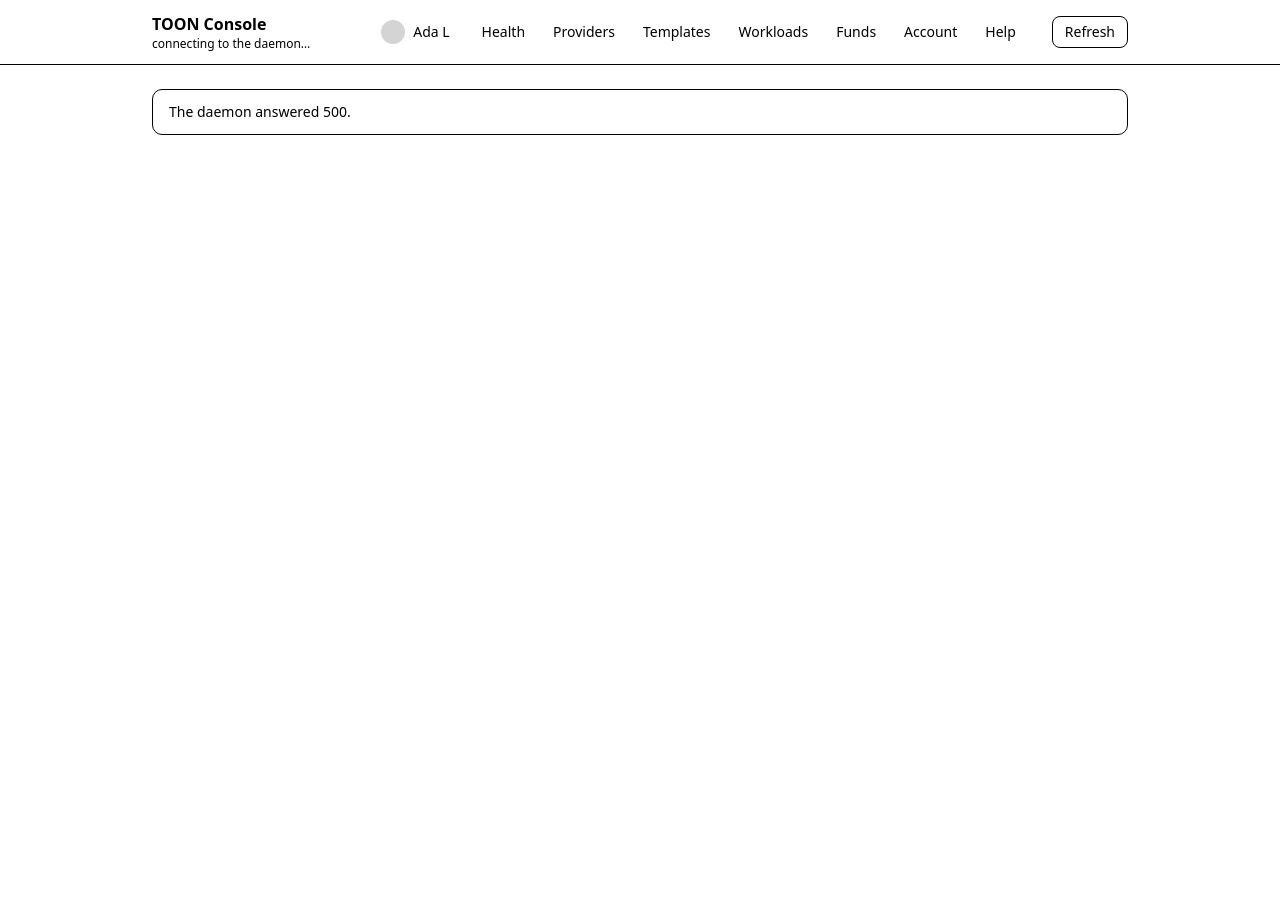
Test case: signing in with a Nostr signer › signs out back to the sign-in screen, with the signer still listed
Click the button "Account" at coordinates (931, 32), box [892,16,969,48]
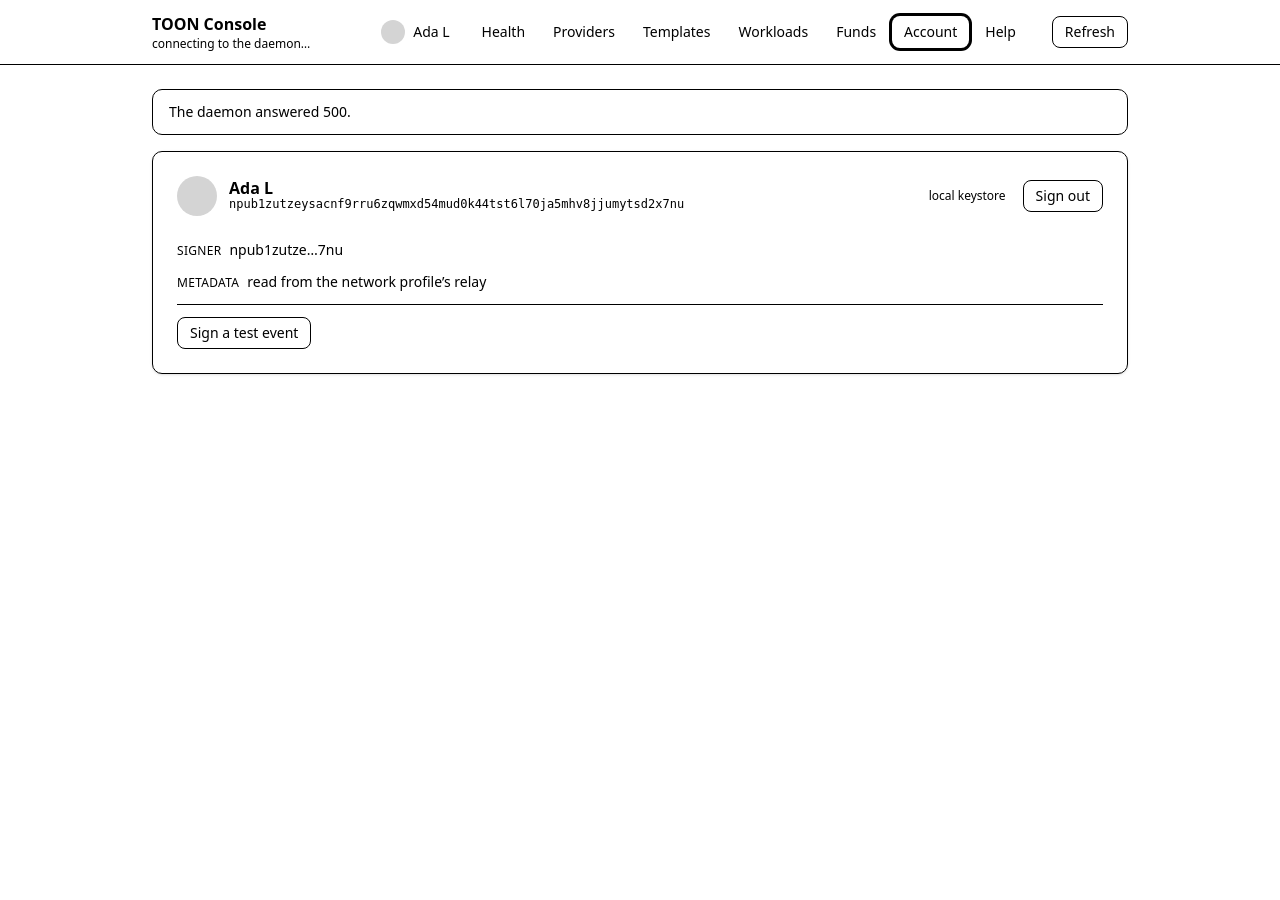
Click the button "Sign out" at coordinates (1063, 196), box [1023,180,1103,212]
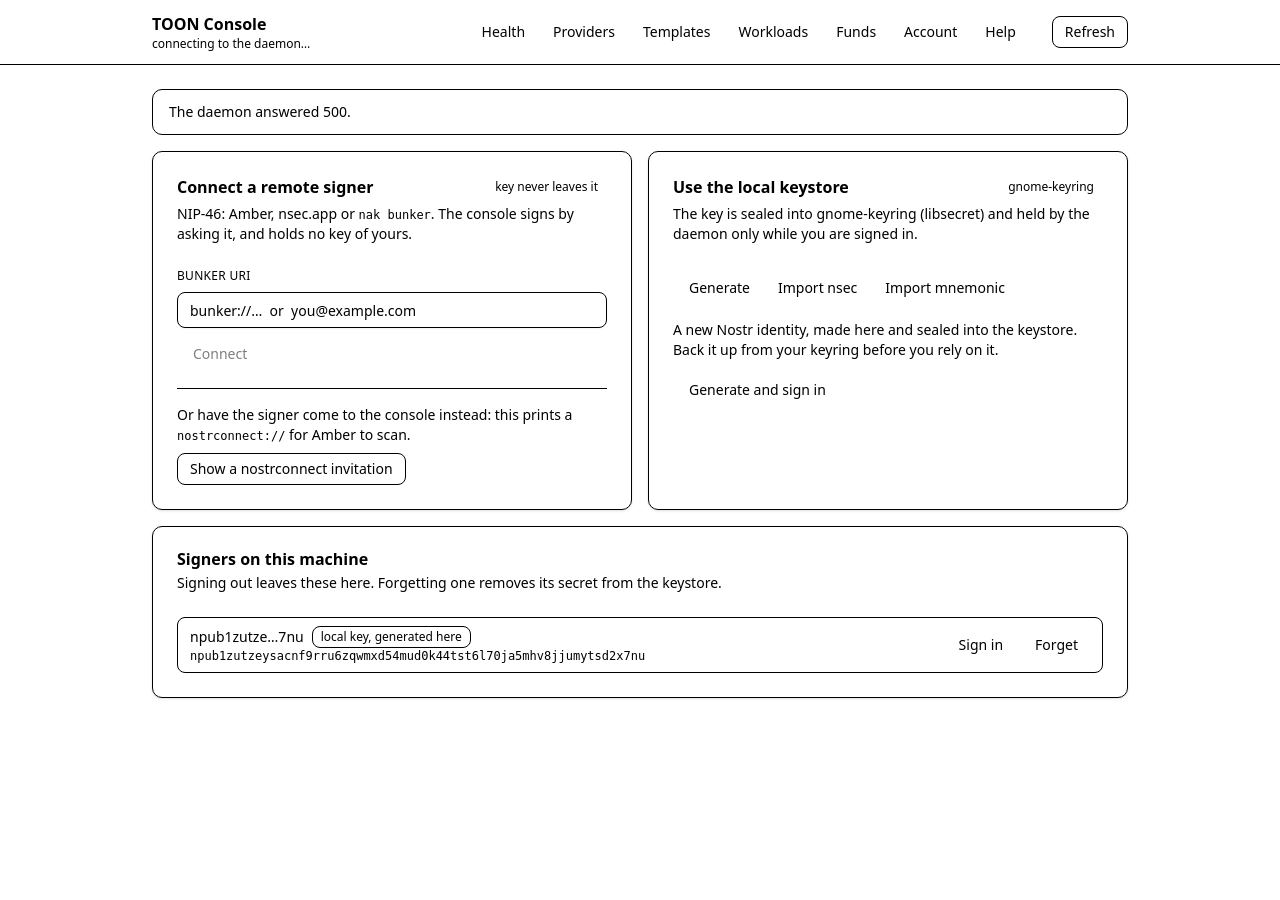
expect the text "Connect a remote signer" is shown: met, box [177,179,374,195]
expect the text "Signers on this machine" is shown: met, box [177,548,368,570]
expect the button "Sign in" is shown: met, box [947,629,1015,661]
